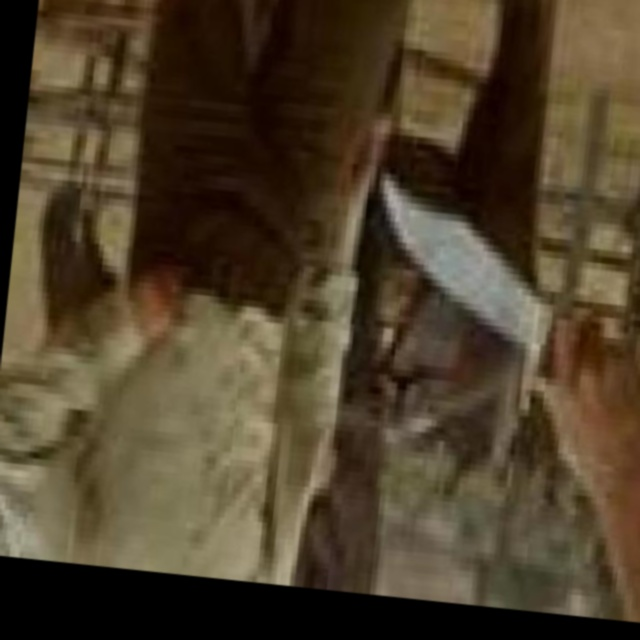Sharp-Object: (360, 173, 570, 410)
